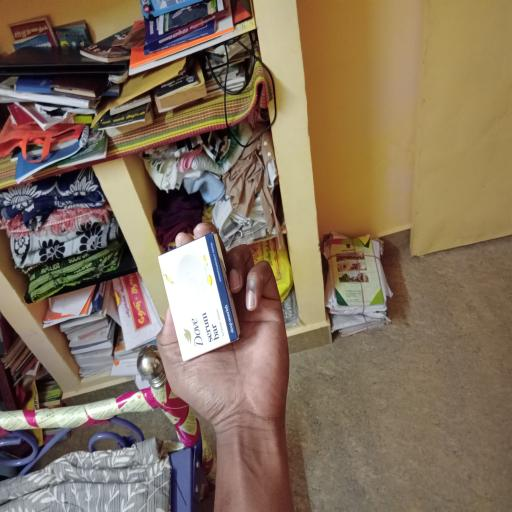Dove`1: (154, 229, 247, 362)
